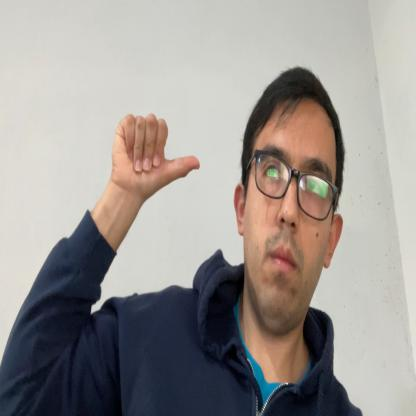A: (112, 114, 202, 200)
